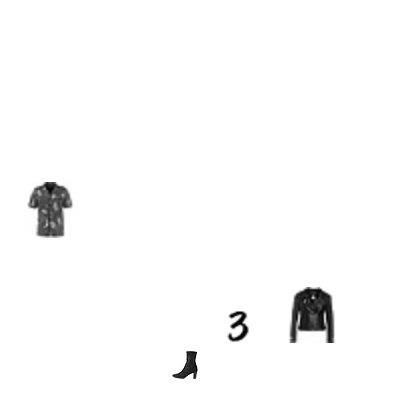2: (172, 40, 200, 68)
Bag: (20, 180, 104, 264)
Sandal: (212, 236, 324, 348)
Shirt: (287, 50, 301, 64)
T-shirt/top: (271, 240, 285, 254)
Trouser: (285, 71, 397, 183)
